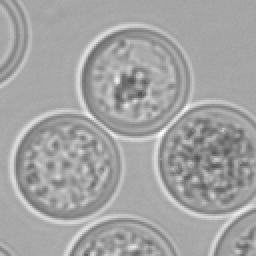picoshell: (74, 22, 192, 140), (8, 110, 124, 224), (152, 100, 254, 218), (64, 214, 176, 254), (208, 208, 254, 254), (0, 242, 14, 254)
